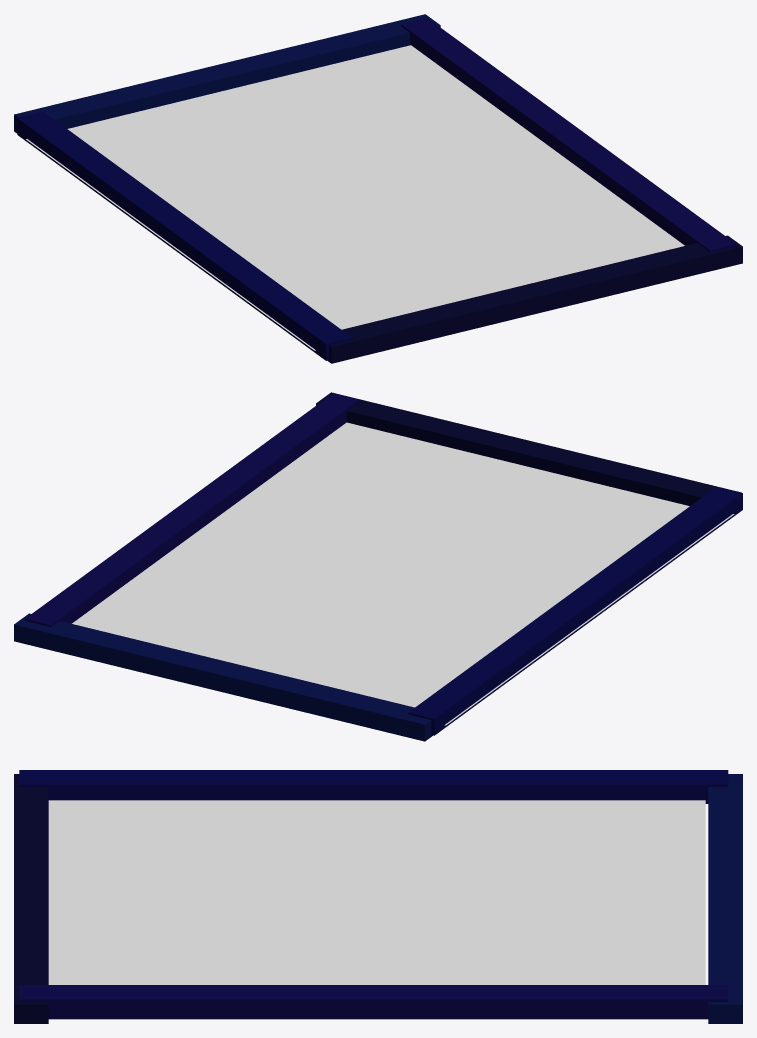
The model's file is picture 1.fbx.
The picture shows the model from 3 angles, top to bottom: view 1: azimuth 30°, elevation 25°; view 2: azimuth 150°, elevation 25°; view 3: azimuth 270°, elevation 25°; orthographic projection. The views are drawn at different scales.
Parts seen in each view (by area): view 1: 平面, 立方体.001, 立方体.003, 立方体, 立方体.002; view 2: 平面, 立方体.001, 立方体.002, 立方体, 立方体.003; view 3: 平面, 立方体, 立方体.001, 立方体.002, 立方体.003.
Boxes of the visible parts, box(x1,y1,x2,y2) form: 平面: box(26, 45, 684, 350); 立方体.001: box(17, 111, 352, 360); 立方体.003: box(327, 235, 742, 363); 立方体: box(401, 18, 736, 252); 立方体.002: box(14, 14, 440, 133); 平面: box(72, 422, 734, 725); 立方体.001: box(408, 487, 742, 735); 立方体.002: box(14, 613, 432, 741); 立方体: box(25, 393, 359, 626); 立方体.003: box(316, 392, 741, 505); 平面: box(48, 800, 705, 984); 立方体: box(19, 985, 728, 1019); 立方体.001: box(19, 770, 728, 803); 立方体.002: box(708, 774, 742, 1023); 立方体.003: box(14, 774, 48, 1023).
Bounding box in the file's own units: 233 × 10.1 × 308.
